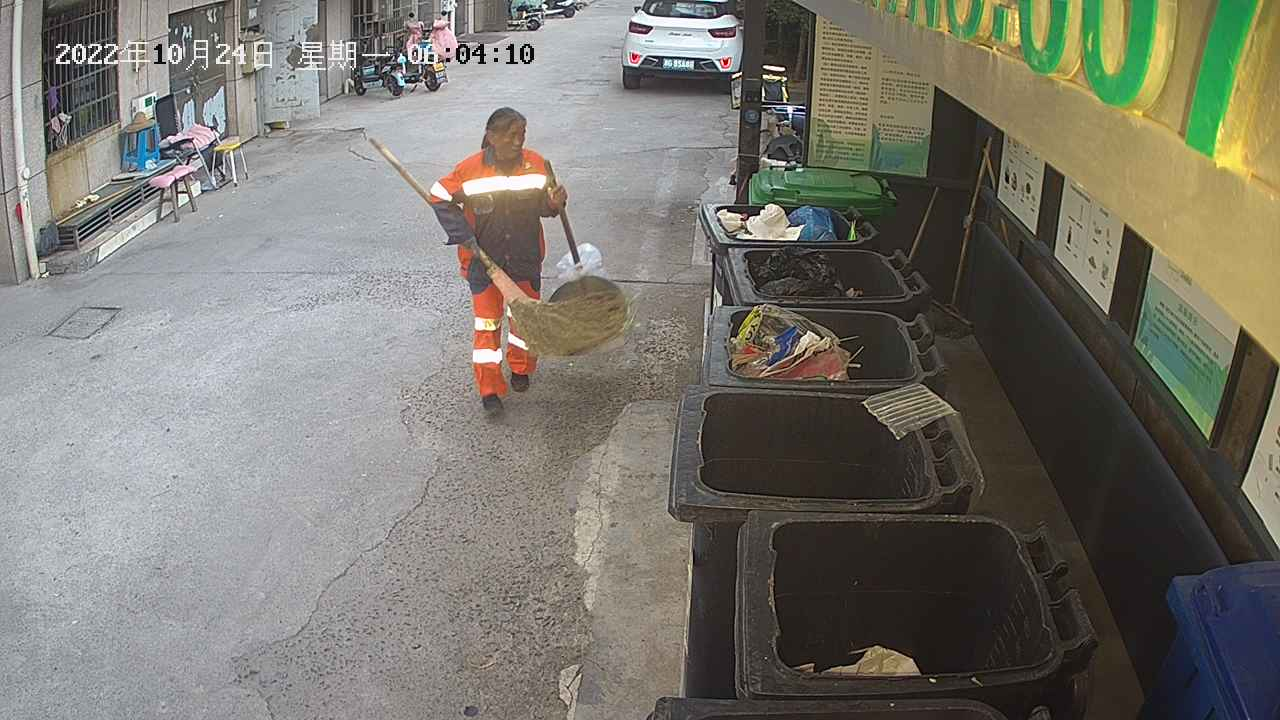garbage-bag: (553, 240, 605, 285)
worker: (426, 104, 576, 420)
